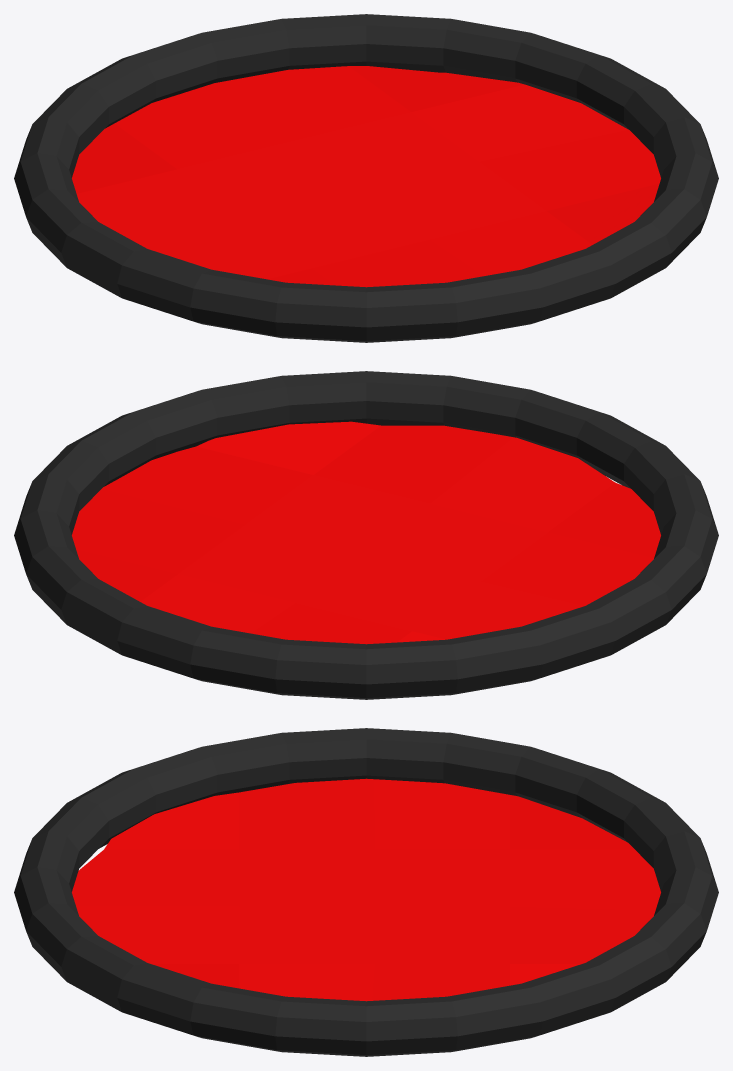
The model's file is Jumppad2.fbx.
The picture shows the model from 3 angles, top to bottom: view 1: azimuth 30°, elevation 25°; view 2: azimuth 150°, elevation 25°; view 3: azimuth 270°, elevation 25°; orthographic projection.
Visible parts, largest first — view 1: JumpPad; view 2: JumpPad; view 3: JumpPad.
Part boxes in pixels (box(x1,y1,x2,y2)): JumpPad: box(14, 14, 718, 342); JumpPad: box(14, 371, 718, 699); JumpPad: box(14, 728, 718, 1056).
Size of the model in its own units: 260 by 20.65 by 260.
